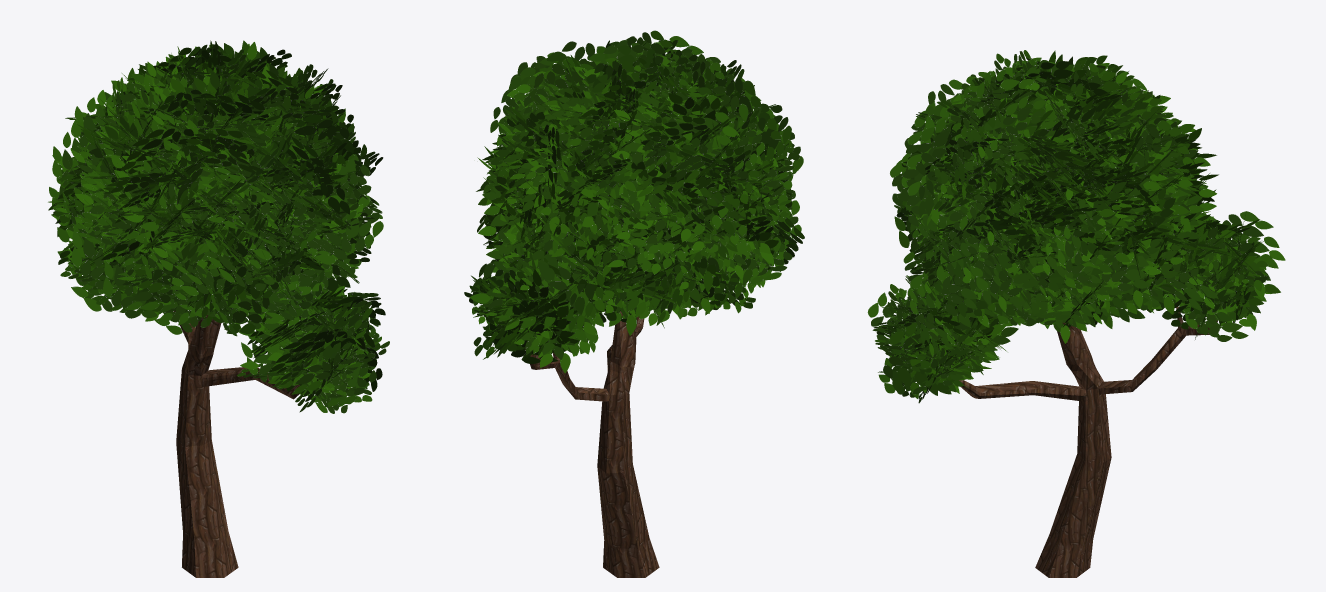
Rendered from Tree.fbx.
3 views of the same model, side by side, from view 1: azimuth 30°, elevation 25°; view 2: azimuth 150°, elevation 25°; view 3: azimuth 270°, elevation 25° (orthographic). The views are drawn at different scales.
Parts seen in each view (by area): view 1: Tree 1, Tree Base 1; view 2: Tree 1, Tree Base 1; view 3: Tree 1, Tree Base 1.
Boxes of the visible parts, x1,y1,x2,y2 form: Tree 1: [48, 40, 389, 413]; Tree Base 1: [173, 310, 299, 577]; Tree 1: [464, 30, 804, 373]; Tree Base 1: [525, 311, 659, 577]; Tree 1: [867, 50, 1285, 403]; Tree Base 1: [958, 306, 1217, 577].
Size of the model in its own units: 801 by 1217 by 941.
